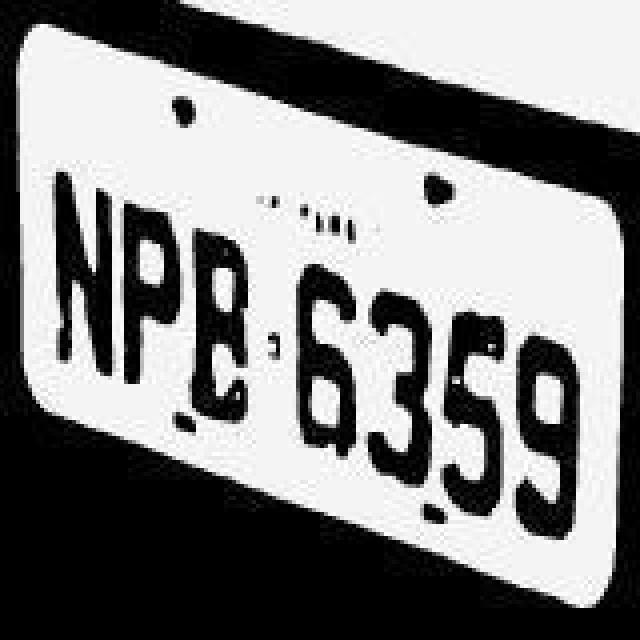3: (364, 254, 436, 506)
5: (444, 260, 516, 524)
6: (292, 256, 364, 480)
9: (514, 266, 590, 550)
B: (184, 218, 264, 430)
N: (42, 138, 118, 398)
P: (118, 192, 186, 400)
